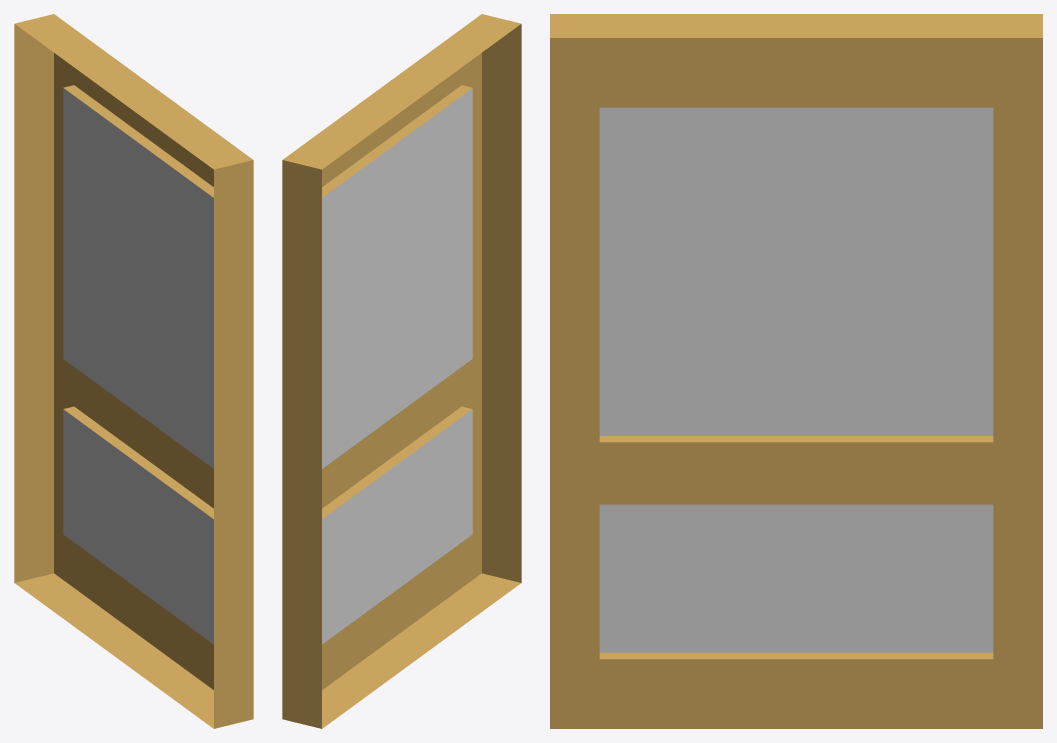
File: Window.5.fbx
3 renders of one model, left to right at view 1: azimuth 30°, elevation 25°; view 2: azimuth 150°, elevation 25°; view 3: azimuth 270°, elevation 25°, orthographic. The views are drawn at different scales.
Visible parts, largest first — view 1: Cube; view 2: Cube; view 3: Cube.
Boxes of the visible parts, x1=… form: Cube: x1=14, y1=14, x2=253, y2=728; Cube: x1=282, y1=14, x2=521, y2=728; Cube: x1=550, y1=14, x2=1042, y2=728.
Bounding box in the file's own units: 0.0582 × 0.7837 × 0.5065.
